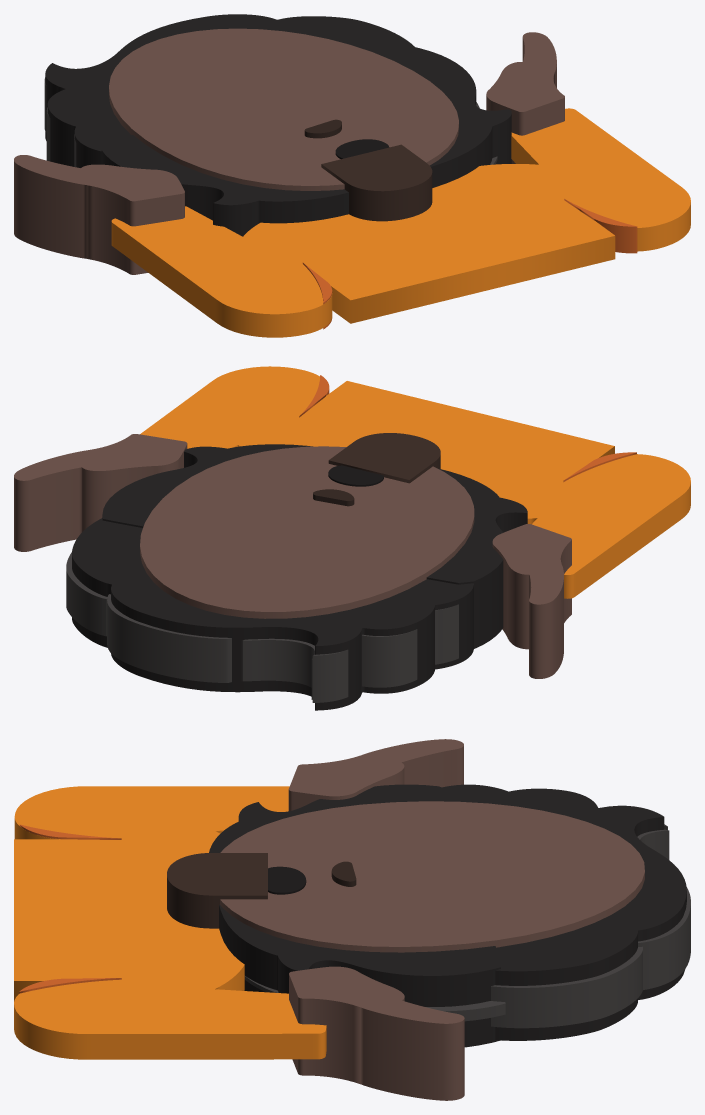
The model's file is emoji_u1f937_1f3ff.glb.
The picture shows the model from 3 angles, top to bottom: view 1: azimuth 30°, elevation 25°; view 2: azimuth 150°, elevation 25°; view 3: azimuth 270°, elevation 25°; orthographic projection. The views are drawn at different scales.
Parts seen in each view (by area): view 1: emoji_u1f937_1f3ff; view 2: emoji_u1f937_1f3ff; view 3: emoji_u1f937_1f3ff.
Part boxes in pixels (x1=…): emoji_u1f937_1f3ff: x1=14, y1=14, x2=690, y2=337; emoji_u1f937_1f3ff: x1=14, y1=366, x2=690, y2=710; emoji_u1f937_1f3ff: x1=14, y1=739, x2=690, y2=1100.
Size of the model in its own units: 0.0331 by 0.0052 by 0.0335.
